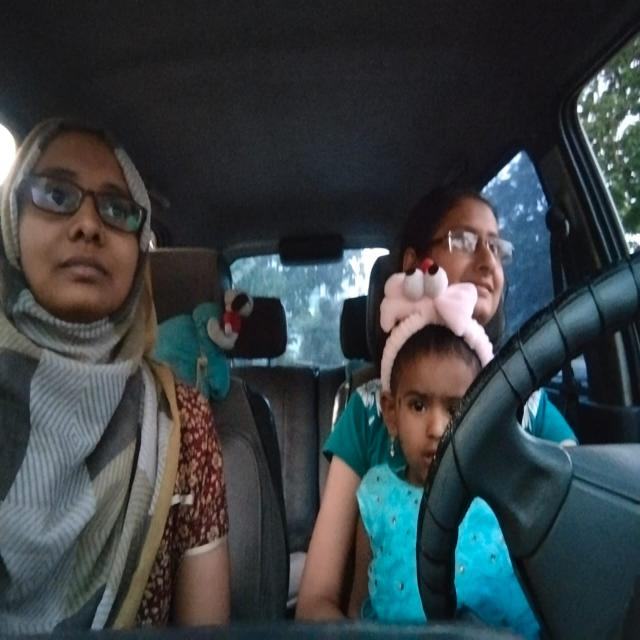child: (374, 327, 485, 474)
person: (9, 120, 150, 322), (419, 179, 510, 322)
